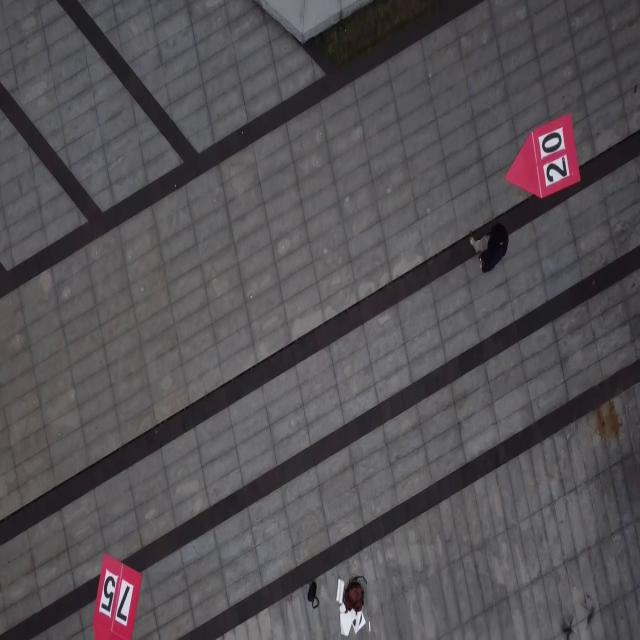-sign-: (505, 111, 581, 200)
